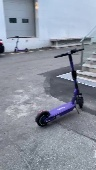beam: (33, 47, 89, 128), (11, 33, 30, 55)
